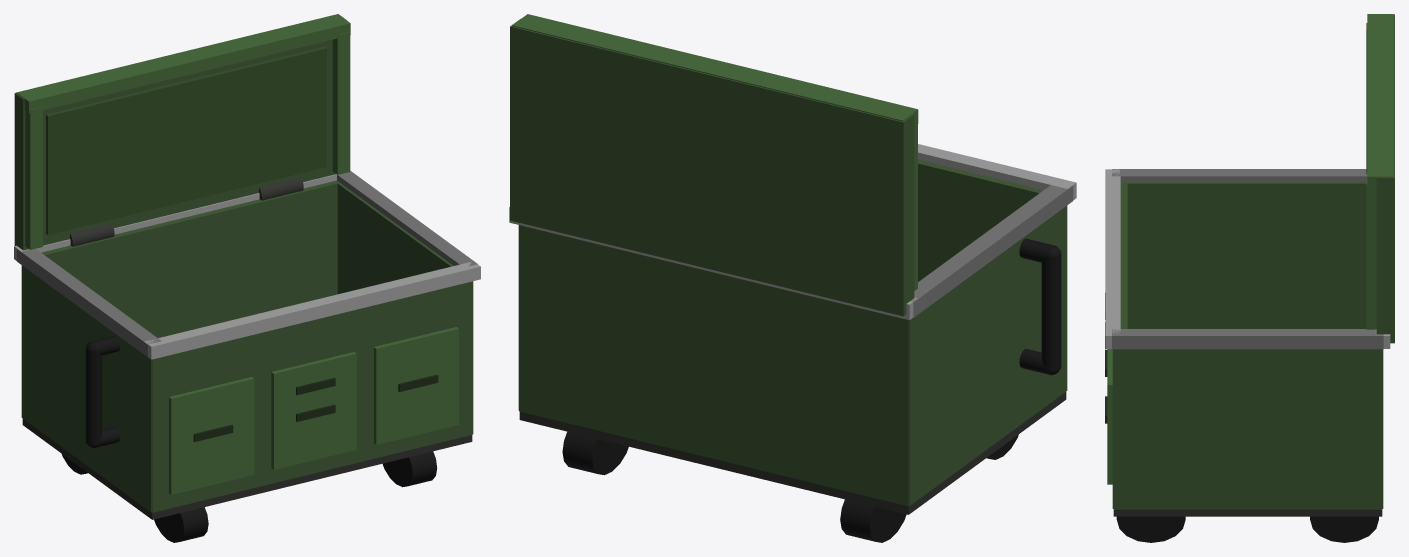
Rendered from CMU3DUtilityCrateTrashCartFilledCloudOpenStudy.glb.
3 views of the same model, side by side, from view 1: azimuth 30°, elevation 25°; view 2: azimuth 150°, elevation 25°; view 3: azimuth 270°, elevation 25° (orthographic). The views are drawn at different scales.
Parts seen in each view (by area): view 1: recessed inner lid, structural end wall 1, structural end wall -1, structural side wall -1, front molded raised panel -0.26, front molded raised panel 0.26, lid upper rim, front molded raised panel 0, upright green hinged lid, structural side wall 1, metal rim lip -0.286, metal rim side -0.401 (+10 smaller); view 2: upright green hinged lid, structural end wall 1, structural side wall -1, structural end wall -1, lid upper rim, metal rim side -0.401, structural bottom pan, metal rim lip -0.286, side push handle section 2, caster wheel 0.29 0.205, caster wheel -0.29 0.205, metal rim lip 0.286; view 3: structural side wall 1, structural side wall -1, metal rim side 0.401, lid upper rim, metal rim side -0.401, upright green hinged lid, metal rim lip -0.286, structural bottom pan, lid side rim 0.39, caster wheel 0.29 -0.205, caster wheel 0.29 0.205, structural end wall -1 (+1 smaller).
Boxes of the visible parts, <box> form: recessed inner lid: <box>46,46,326,234</box>; structural end wall 1: <box>41,180,339,337</box>; structural end wall -1: <box>152,281,472,512</box>; structural side wall -1: <box>21,265,152,512</box>; front molded raised panel -0.26: <box>169,377,254,494</box>; front molded raised panel 0.26: <box>374,327,458,444</box>; lid upper rim: <box>16,14,350,113</box>; front molded raised panel 0: <box>271,352,356,469</box>; upright green hinged lid: <box>14,14,346,250</box>; structural side wall 1: <box>336,180,473,433</box>; metal rim lip -0.286: <box>144,261,480,359</box>; metal rim side -0.401: <box>17,248,161,357</box>; upright green hinged lid: <box>510,19,914,316</box>; structural end wall 1: <box>519,225,908,506</box>; structural side wall -1: <box>908,206,1067,505</box>; structural end wall -1: <box>918,159,1043,281</box>; lid upper rim: <box>512,14,918,126</box>; metal rim side -0.401: <box>911,185,1073,317</box>; structural bottom pan: <box>519,392,1066,514</box>; metal rim lip -0.286: <box>918,144,1076,199</box>; side push handle section 2: <box>1041,251,1061,371</box>; caster wheel 0.29 0.205: <box>562,431,628,475</box>; caster wheel -0.29 0.205: <box>840,499,906,542</box>; metal rim lip 0.286: <box>509,207,917,320</box>; structural side wall 1: <box>1113,349,1382,509</box>; structural side wall -1: <box>1120,182,1366,328</box>; metal rim side 0.401: <box>1112,329,1383,349</box>; lid upper rim: <box>1367,14,1393,188</box>; metal rim side -0.401: <box>1112,169,1367,182</box>; upright green hinged lid: <box>1376,14,1394,343</box>; metal rim lip -0.286: <box>1105,169,1120,348</box>; structural bottom pan: <box>1113,509,1382,516</box>; lid side rim 0.39: <box>1366,178,1376,329</box>; caster wheel 0.29 -0.205: <box>1116,516,1185,542</box>; caster wheel 0.29 0.205: <box>1310,516,1378,542</box>; structural end wall -1: <box>1112,183,1127,508</box>.
Bounding box in the file's own units: 0.902 × 0.898 × 0.615.
